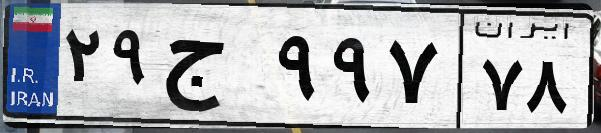2: (57, 26, 110, 100)
7: (385, 28, 445, 110), (475, 38, 525, 113)
8: (525, 38, 570, 115)
9: (270, 28, 330, 110), (330, 28, 385, 110), (110, 28, 158, 98)
ج: (158, 20, 270, 120)
